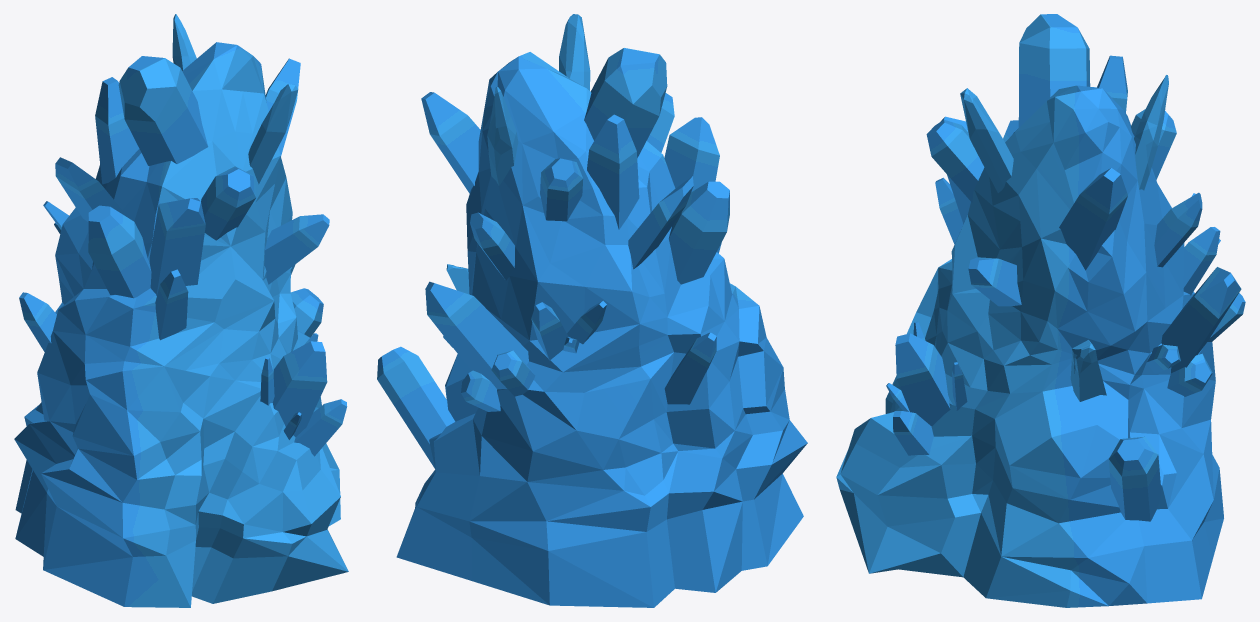
Rendered from crystal_pillar.glb.
3 renders of one model, left to right at view 1: azimuth 30°, elevation 25°; view 2: azimuth 150°, elevation 25°; view 3: azimuth 270°, elevation 25°, orthographic. The views are drawn at different scales.
Parts seen in each view (by area): view 1: PP_Crystal_Column_01_Blue; view 2: PP_Crystal_Column_01_Blue; view 3: PP_Crystal_Column_01_Blue.
Boxes of the visible parts, <box> form: PP_Crystal_Column_01_Blue: <box>14,14,348,607</box>; PP_Crystal_Column_01_Blue: <box>377,14,807,607</box>; PP_Crystal_Column_01_Blue: <box>836,14,1245,607</box>.
Bounding box in the file's own units: 4.2 × 5.8 × 4.33.
1 material, 1 textured.
